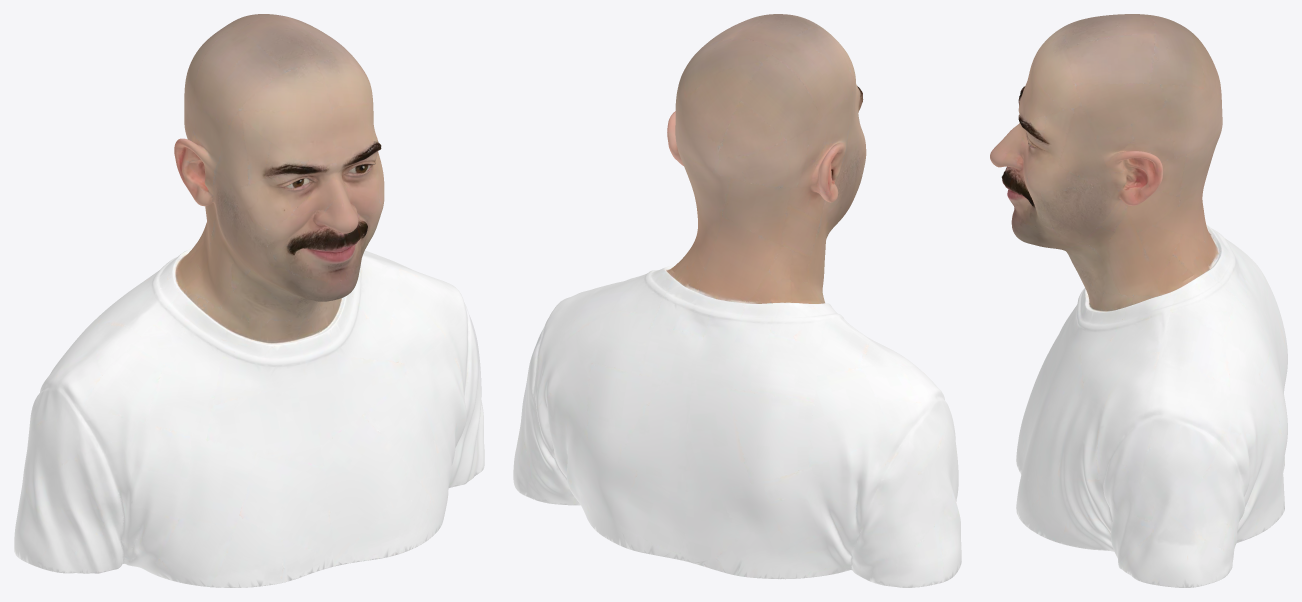
The model's file is santi-head.lite.glb.
The picture shows the model from 3 angles, left to right: view 1: azimuth 30°, elevation 25°; view 2: azimuth 150°, elevation 25°; view 3: azimuth 270°, elevation 25°; orthographic projection. The views are drawn at different scales.
Bounding box in the file's own units: 1.82 × 1.9 × 1.11.
Materials: 1 (1 with a texture image).
